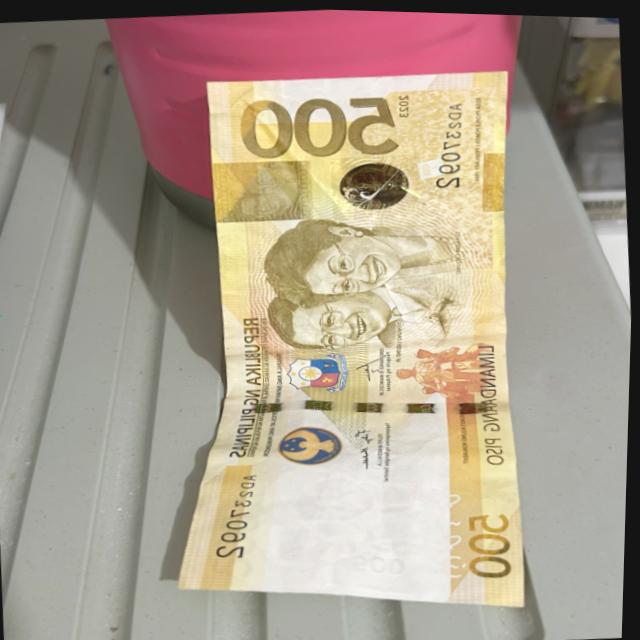concealed_value: (217, 156, 303, 224)
optically_variable_device: (337, 153, 417, 207)
security_thread: (251, 382, 506, 426)
see_through_mark: (433, 482, 472, 573)
value_watermark: (337, 549, 420, 579)
watermark: (258, 458, 440, 570)
